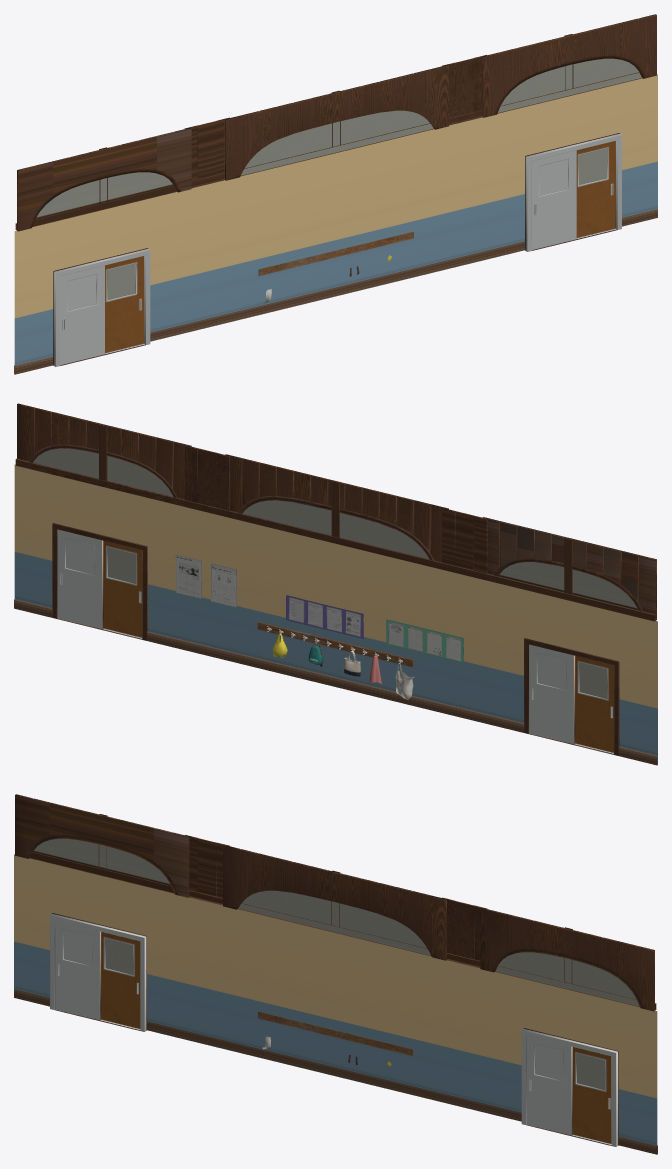
Rendered from a_sch_class1d_hallwaywall01.gltf.
3 views of the same model, one above another, from view 1: azimuth 30°, elevation 25°; view 2: azimuth 150°, elevation 25°; view 3: azimuth 330°, elevation 25° (orthographic).
Visible parts, largest first — view 1: um_a_sch_class1d_hallwaywall01_model_a_sch_class1d_hallwaywa (×5); view 2: um_a_sch_class1d_hallwaywall01_model_a_sch_class1d_hallwaywa (×6); view 3: um_a_sch_class1d_hallwaywall01_model_a_sch_class1d_hallwaywa (×5).
Boxes of the visible parts, x1,y1,x2,y2 form: um_a_sch_class1d_hallwaywall01_model_a_sch_class1d_hallwaywa (×5): [14, 14, 657, 374]; um_a_sch_class1d_hallwaywall01_model_a_sch_class1d_hallwaywa (×6): [14, 403, 657, 765]; um_a_sch_class1d_hallwaywall01_model_a_sch_class1d_hallwaywa (×5): [14, 794, 657, 1154].
Bounding box in the file's own units: 15 × 4.55 × 0.3971.
Materials: 6 (6 with a texture image).
